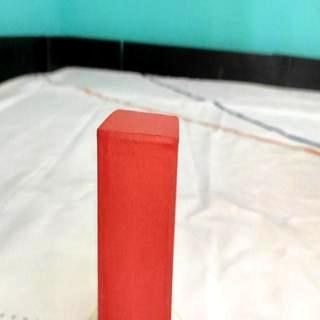redbox: (96, 107, 180, 320)
